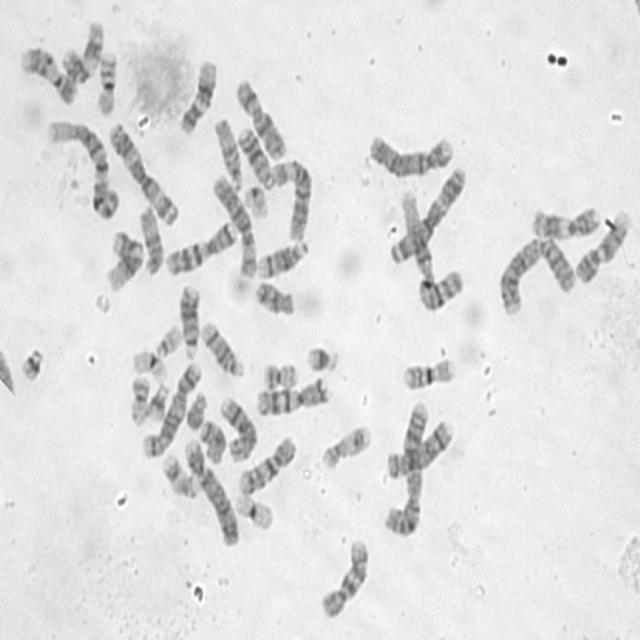A1: (397, 188, 465, 314), (43, 116, 121, 221)
A2: (494, 236, 576, 318), (382, 398, 429, 540)
A3: (388, 166, 468, 267), (109, 120, 181, 230)
B4: (183, 436, 241, 550), (368, 134, 455, 180)
B5: (140, 361, 202, 463)
C10: (320, 537, 370, 619), (237, 434, 297, 496)
C11: (62, 18, 104, 90), (530, 204, 601, 240)
C12: (179, 57, 218, 139), (104, 229, 146, 297)
C6: (211, 173, 258, 281), (272, 160, 313, 242)
C7: (165, 218, 238, 276), (255, 376, 334, 418)
C8: (384, 417, 454, 482), (220, 394, 260, 465)
C9: (576, 206, 632, 286), (18, 43, 78, 107)
D13: (235, 125, 275, 191), (179, 285, 201, 361)
D14: (197, 320, 247, 381), (256, 239, 310, 280)
D15: (212, 116, 243, 194), (139, 205, 165, 278)
E16: (401, 355, 458, 392), (96, 49, 119, 115)
E17: (319, 422, 376, 471), (158, 452, 203, 498)
E18: (254, 279, 298, 321), (198, 419, 228, 466)
F19: (234, 491, 276, 534), (130, 348, 170, 384)
F20: (262, 360, 300, 392), (128, 377, 151, 428)
G21: (306, 342, 342, 375), (146, 379, 172, 424), (19, 348, 46, 384)
G22: (155, 322, 181, 359), (244, 184, 270, 218)
X: (236, 77, 288, 162)
Y: (183, 388, 209, 433)
